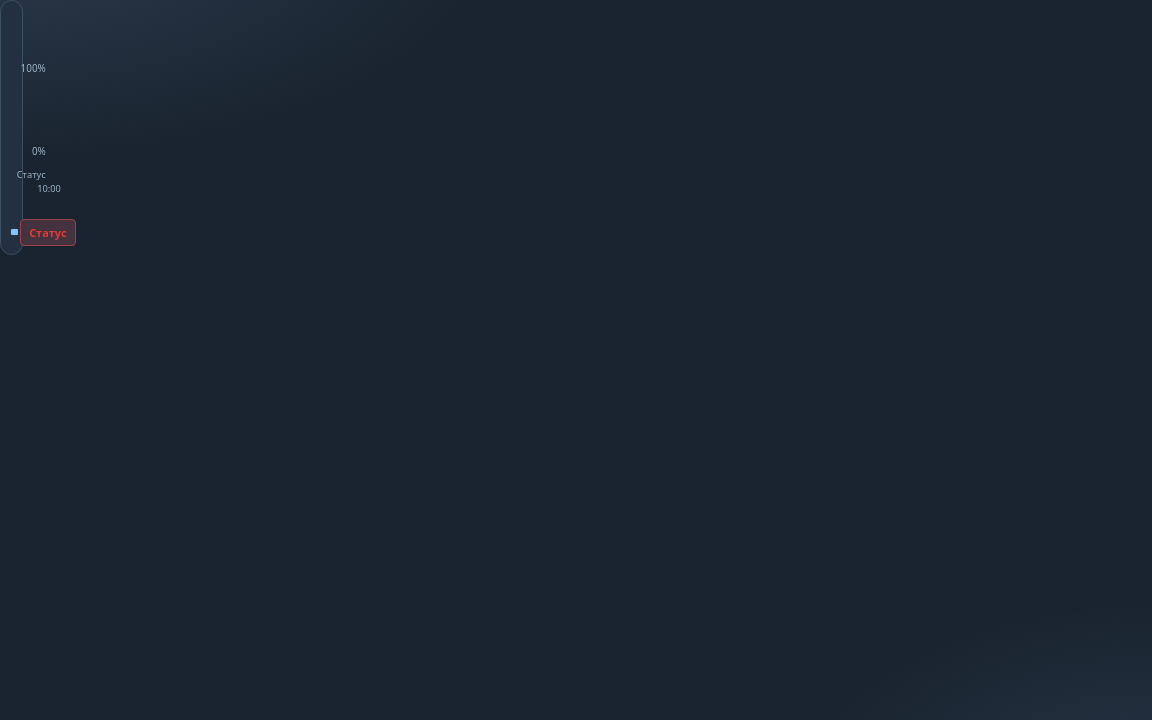
Test: MachineTrend status modal › closes the status modal with the close control, backdrop, and Escape
This screenshot has width=1152, height=720.
Step 1. Click the button "Статус" → (48, 232), box x1=20 y1=218 x2=76 y2=246
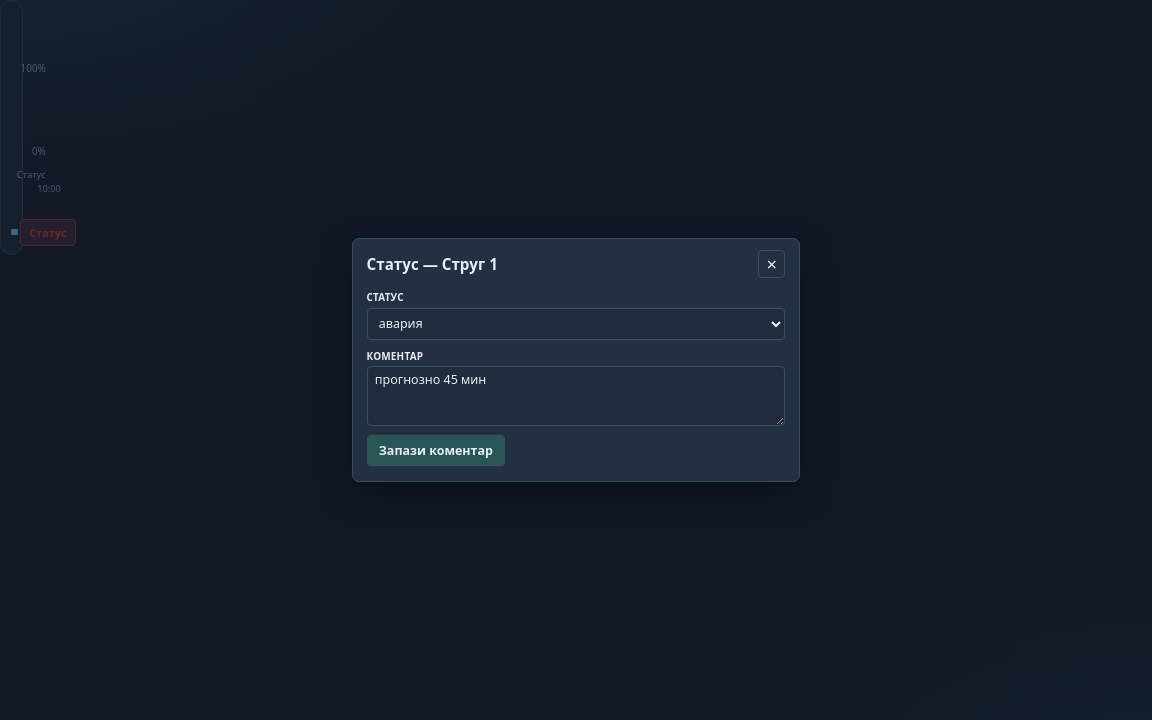
Step 2. Click the button named "Затвори" → (772, 264), box x1=758 y1=250 x2=785 y2=278
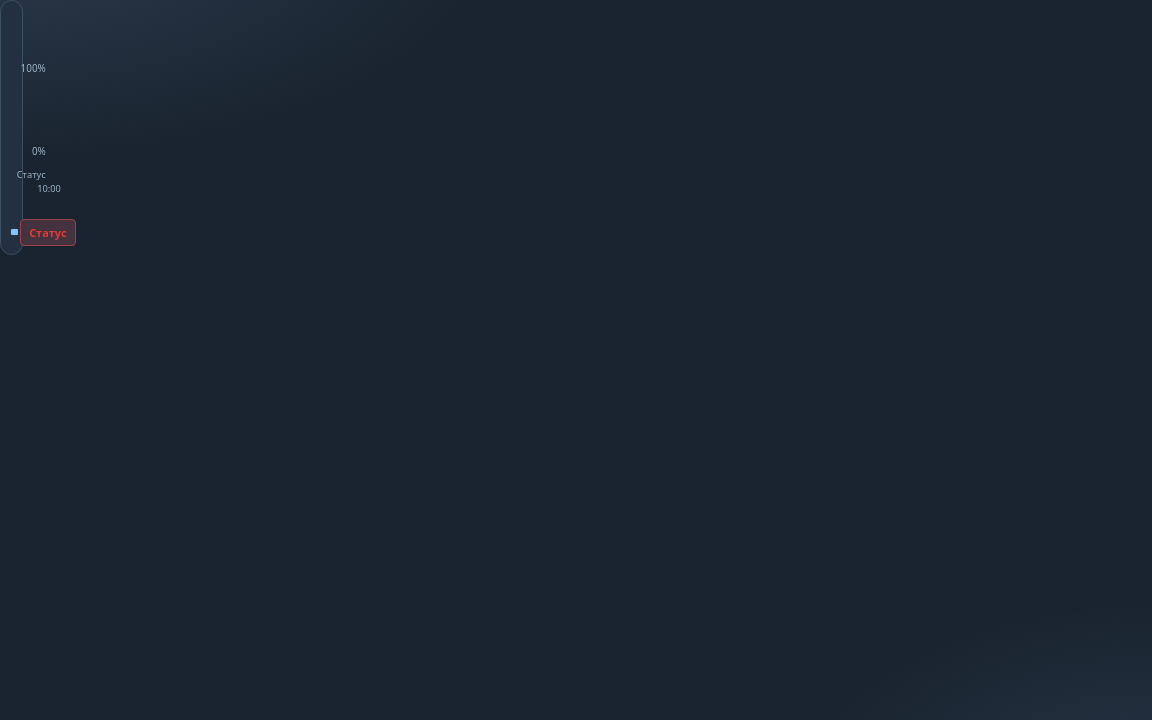
Expected: the dialog is gone
Step 3. Click the button "Статус" → (48, 232), box x1=20 y1=218 x2=76 y2=246
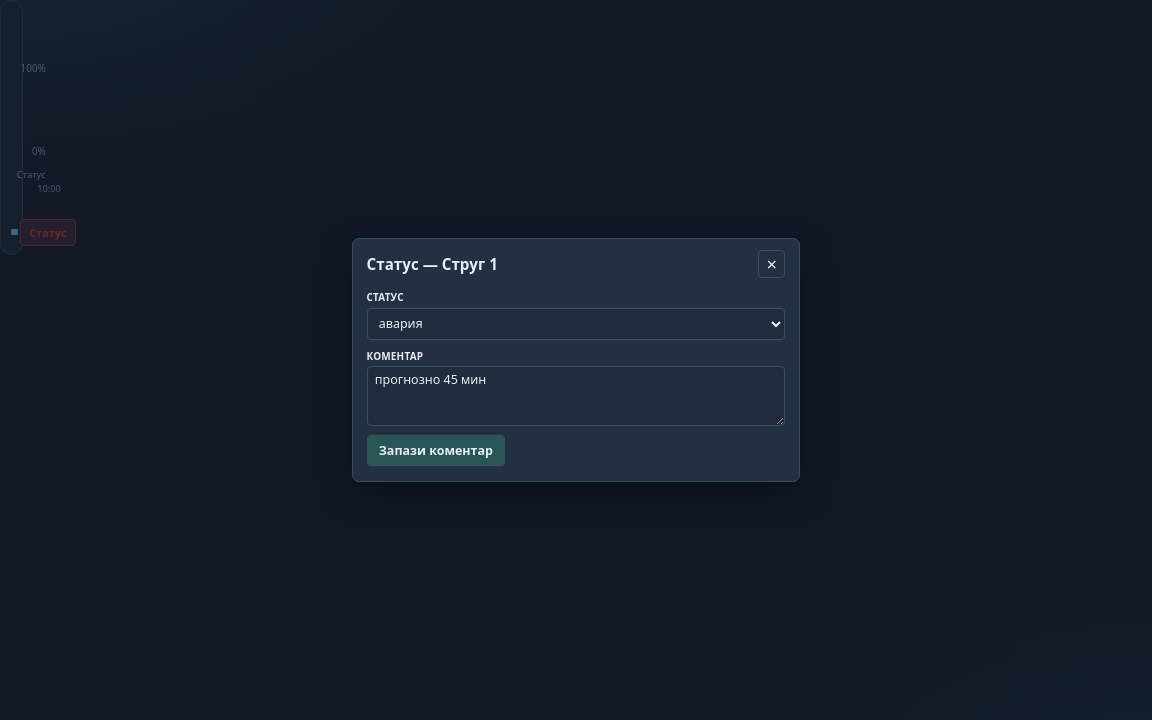
Step 4. Click the element with class "trend-status-modal-backdrop" → (69, 360), box x1=0 y1=0 x2=1151 y2=719
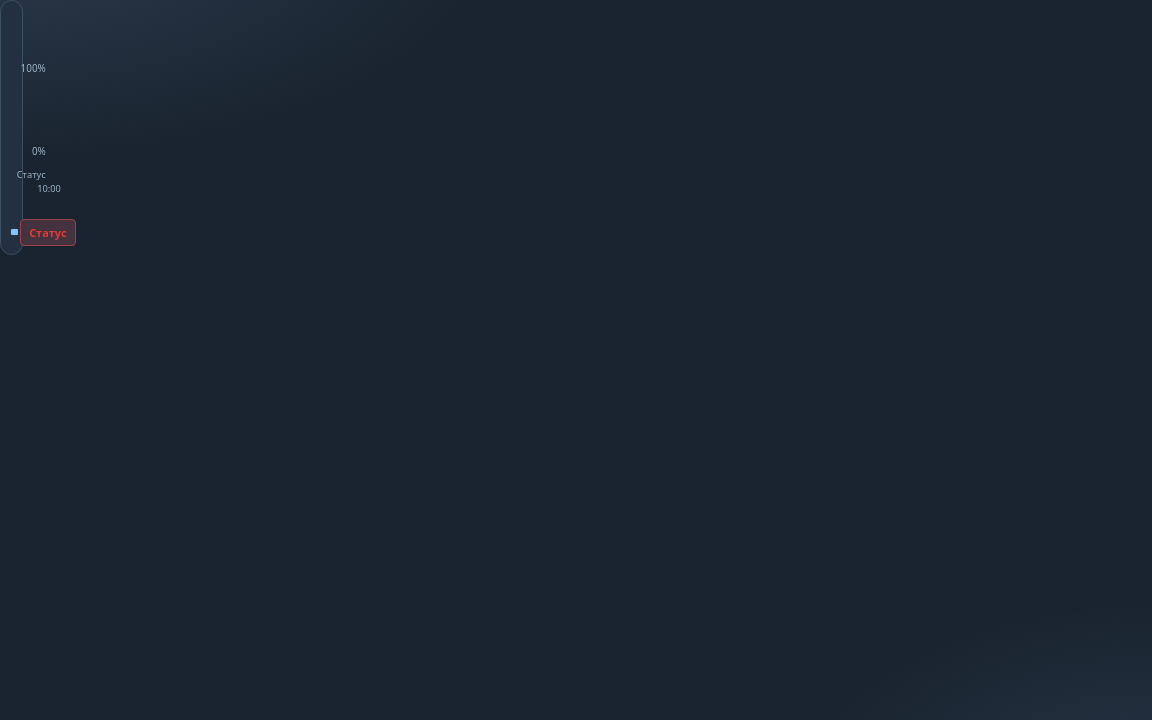
Expected: the dialog is gone
Step 5. Click the button "Статус" → (48, 232), box x1=20 y1=218 x2=76 y2=246
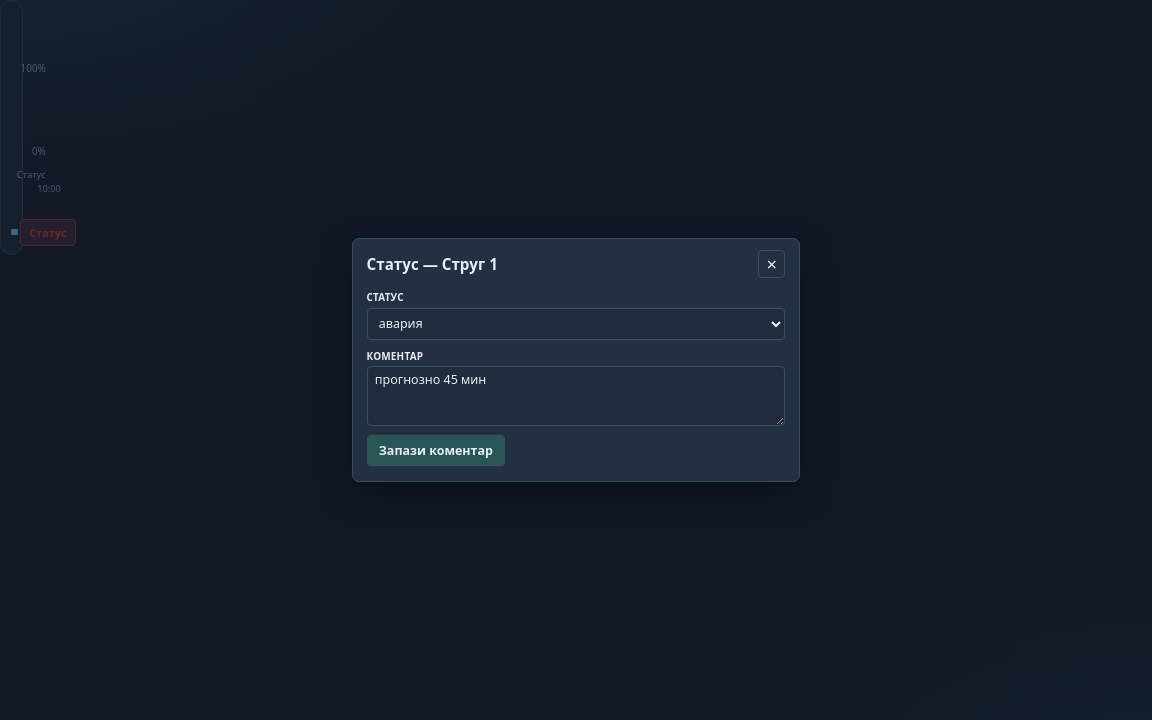
Step 6. Press Escape
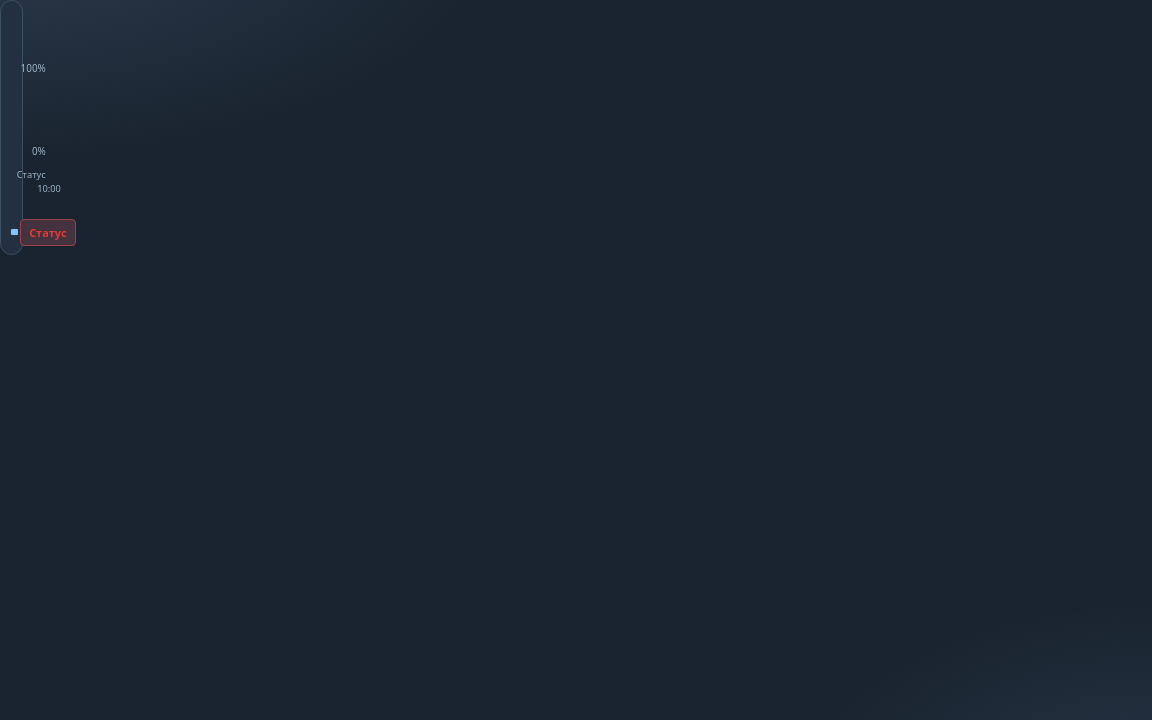
Expected: the dialog is gone
